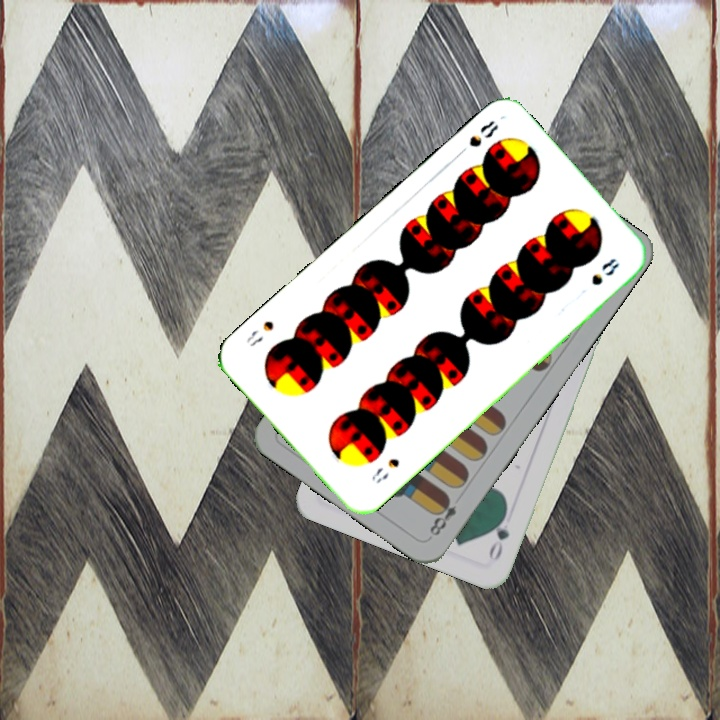E8: (425, 491, 460, 541)
GO: (484, 506, 512, 563)
S8: (453, 116, 501, 159), (367, 454, 402, 486)
